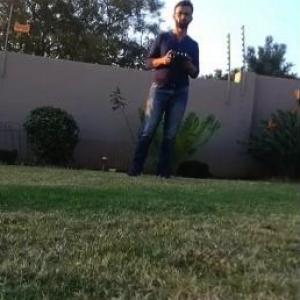follow: (120, 0, 203, 184)
